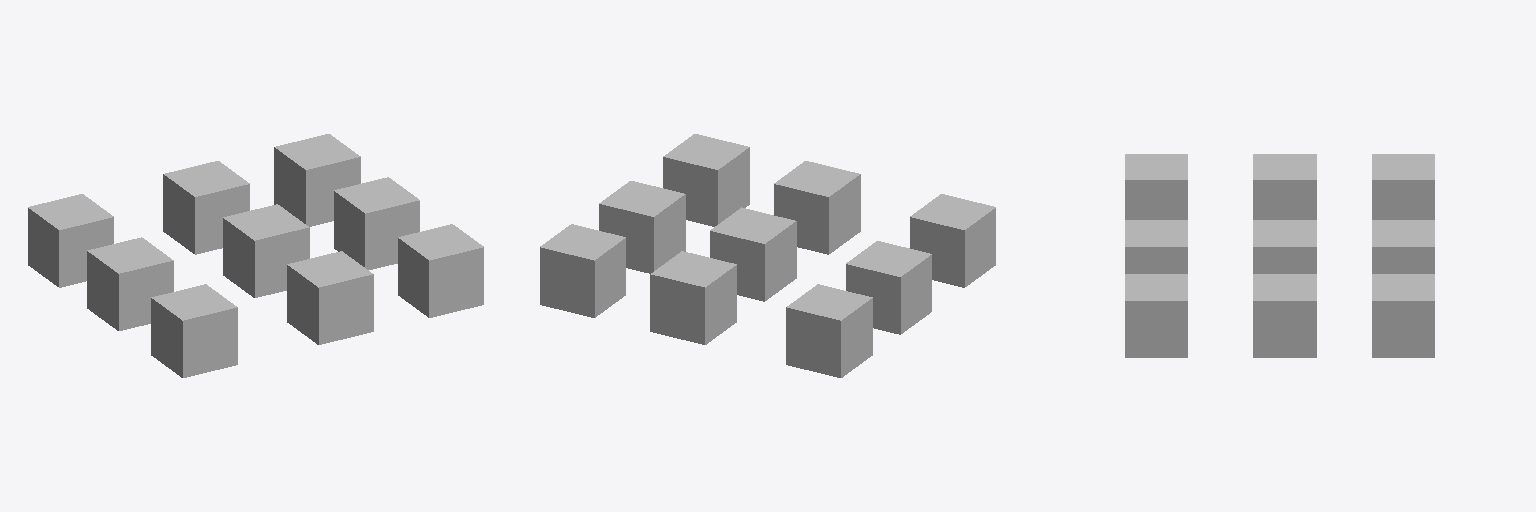
Rendered from casa6.obj.
3 views of the same model, side by side, from view 1: azimuth 30°, elevation 25°; view 2: azimuth 150°, elevation 25°; view 3: azimuth 270°, elevation 25° (orthographic).
Visible parts, largest first — view 1: Cube.004_Cube.005, Cube.001_Cube.002, Cube.007_Cube.008, Cube_Cube.001, Cube.005_Cube.006, Cube.006_Cube.007, Cube.002_Cube.003, Cube.003_Cube.004, Cube.008_Cube.009; view 2: Cube.003_Cube.004, Cube.002_Cube.003, Cube.008_Cube.009, Cube.001_Cube.002, Cube.004_Cube.005, Cube.007_Cube.008, Cube_Cube.001, Cube.005_Cube.006, Cube.006_Cube.007; view 3: Cube.006_Cube.007, Cube.008_Cube.009, Cube.007_Cube.008, Cube.005_Cube.006, Cube.004_Cube.005, Cube.003_Cube.004, Cube_Cube.001, Cube.002_Cube.003, Cube.001_Cube.002.
Boxes of the visible parts, x1,y1,x2,y2 form: Cube.004_Cube.005: [151, 284, 237, 377]; Cube.001_Cube.002: [287, 251, 373, 344]; Cube.007_Cube.008: [398, 224, 483, 317]; Cube_Cube.001: [223, 204, 309, 297]; Cube.005_Cube.006: [87, 237, 173, 330]; Cube.006_Cube.007: [334, 177, 419, 269]; Cube.002_Cube.003: [163, 161, 249, 254]; Cube.003_Cube.004: [28, 194, 113, 287]; Cube.008_Cube.009: [274, 134, 360, 226]; Cube.003_Cube.004: [786, 284, 872, 377]; Cube.002_Cube.003: [650, 251, 736, 344]; Cube.008_Cube.009: [540, 224, 625, 317]; Cube.001_Cube.002: [774, 161, 860, 254]; Cube.004_Cube.005: [910, 194, 995, 287]; Cube.007_Cube.008: [663, 134, 749, 226]; Cube_Cube.001: [710, 207, 796, 301]; Cube.005_Cube.006: [846, 241, 931, 334]; Cube.006_Cube.007: [599, 181, 685, 273]; Cube.006_Cube.007: [1253, 274, 1316, 357]; Cube.008_Cube.009: [1372, 274, 1434, 357]; Cube.007_Cube.008: [1125, 274, 1187, 357]; Cube.005_Cube.006: [1253, 154, 1316, 219]; Cube.004_Cube.005: [1125, 154, 1187, 219]; Cube.003_Cube.004: [1372, 154, 1434, 219]; Cube_Cube.001: [1253, 220, 1316, 273]; Cube.002_Cube.003: [1372, 220, 1434, 273]; Cube.001_Cube.002: [1125, 220, 1187, 273].
Size of the model in its own units: 10.95 by 2 by 9.76.